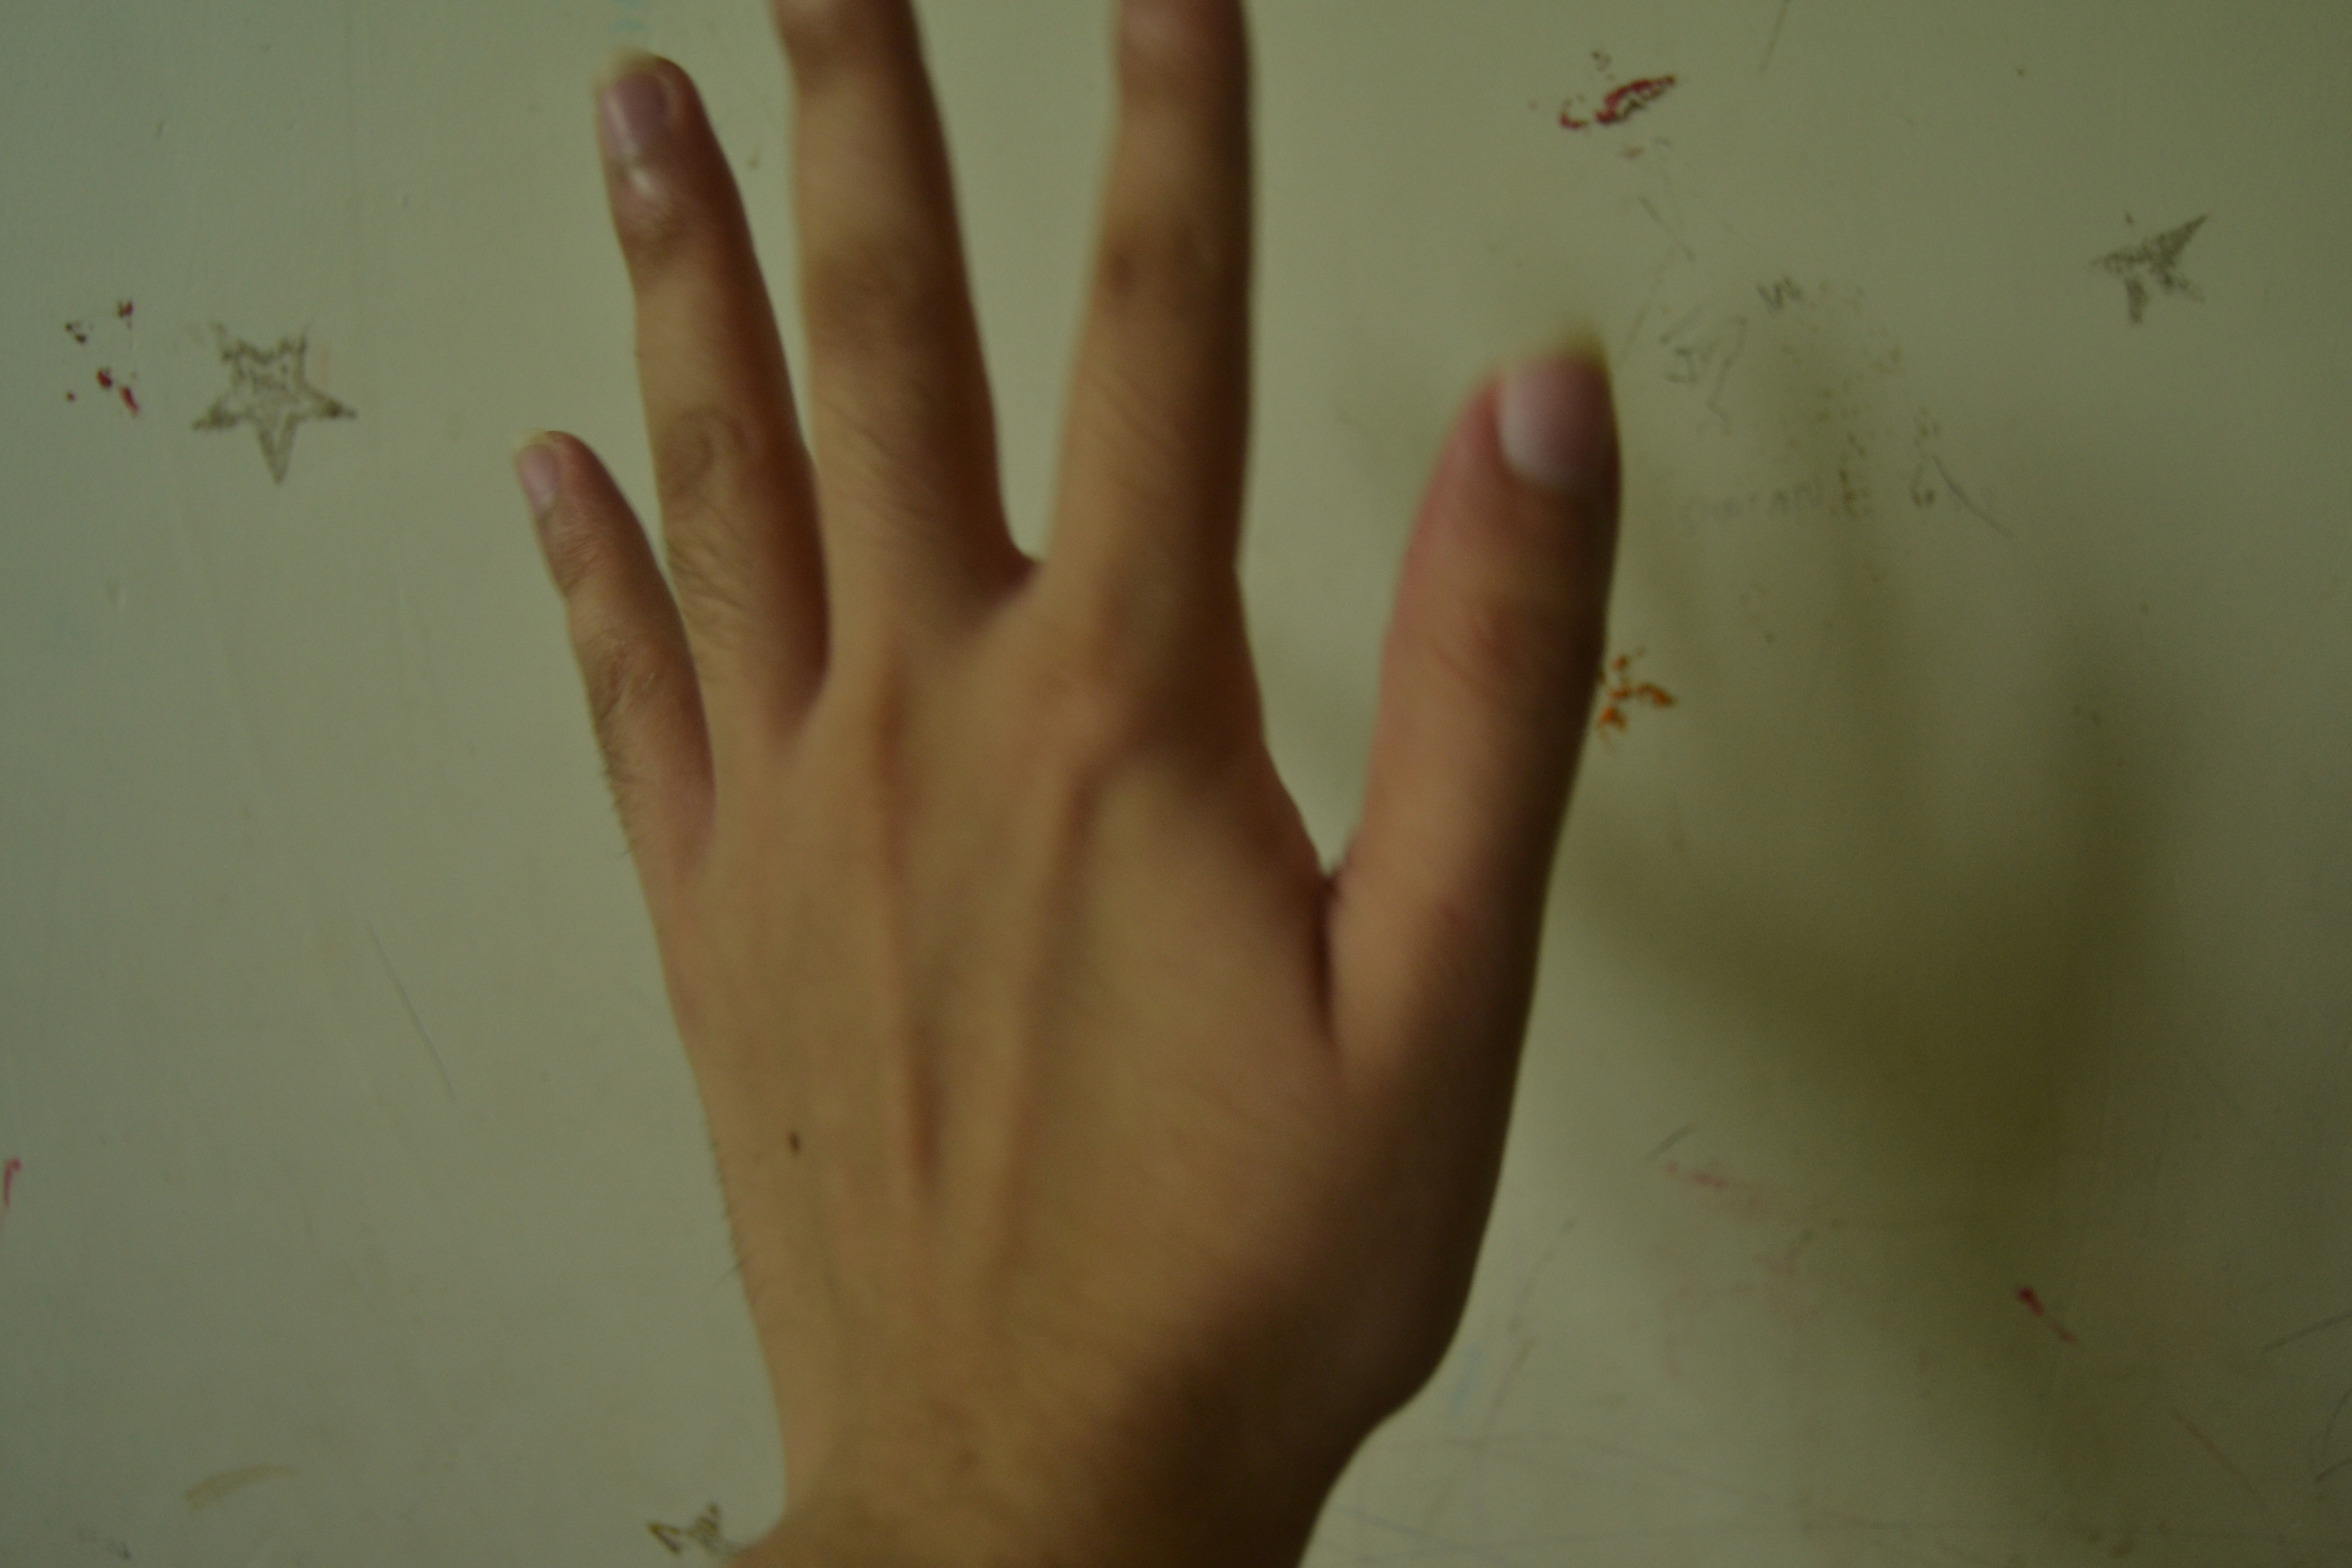move: (472, 21, 1627, 1568)
